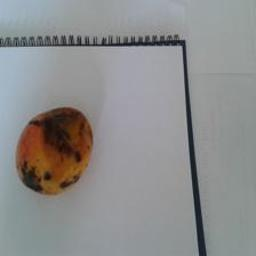Mango Rotten: (6, 103, 102, 199)
